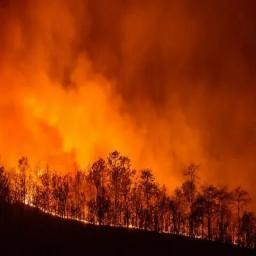Heavy smoke: (1, 0, 256, 172)
Large fire: (0, 151, 255, 247)
